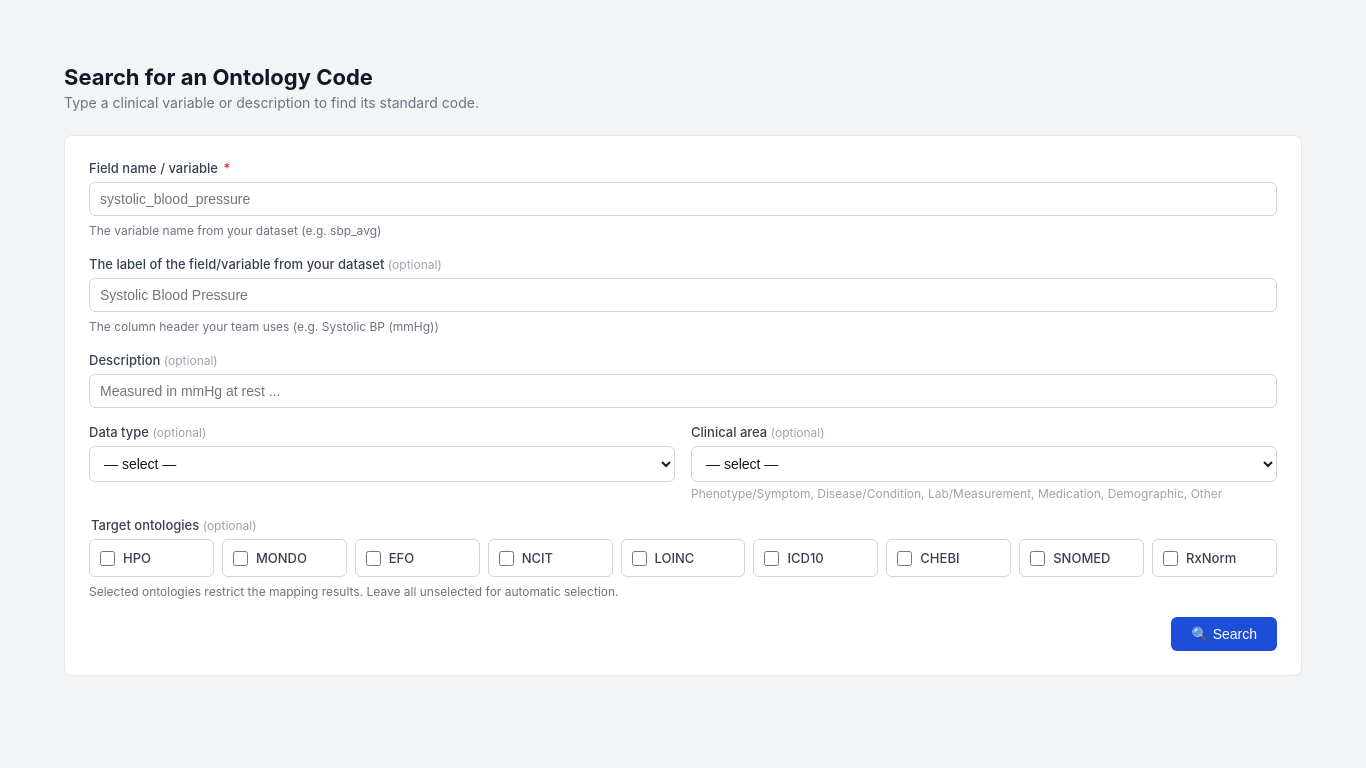
SearchPage retrieval method display › renders imported EFO mappings with the returned native ontology unchanged
Click the checkbox labelled "EFO". click: (373, 558)
box: 366,550 -> 381,566
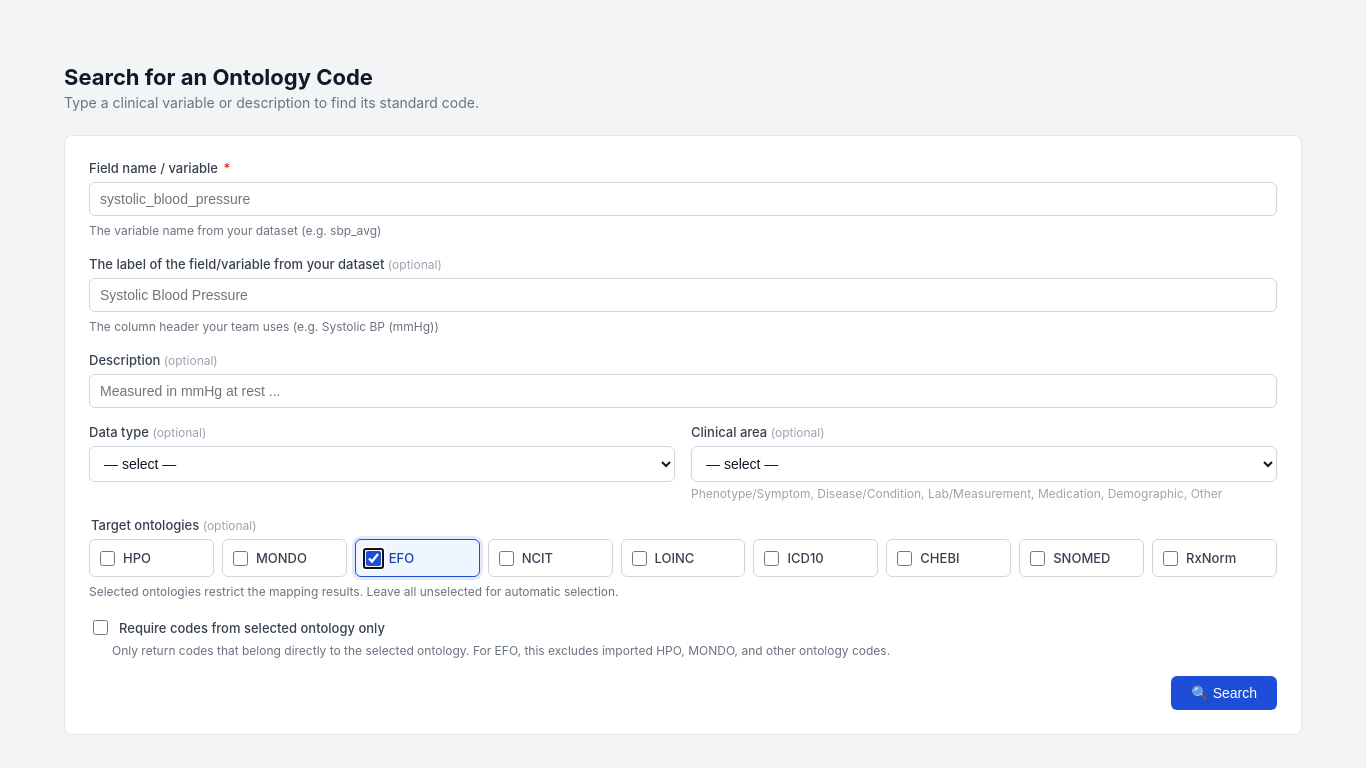
Type "sbp" into the field labelled "Field name / variable *". click: (683, 199)
box: 89,182 -> 1277,216
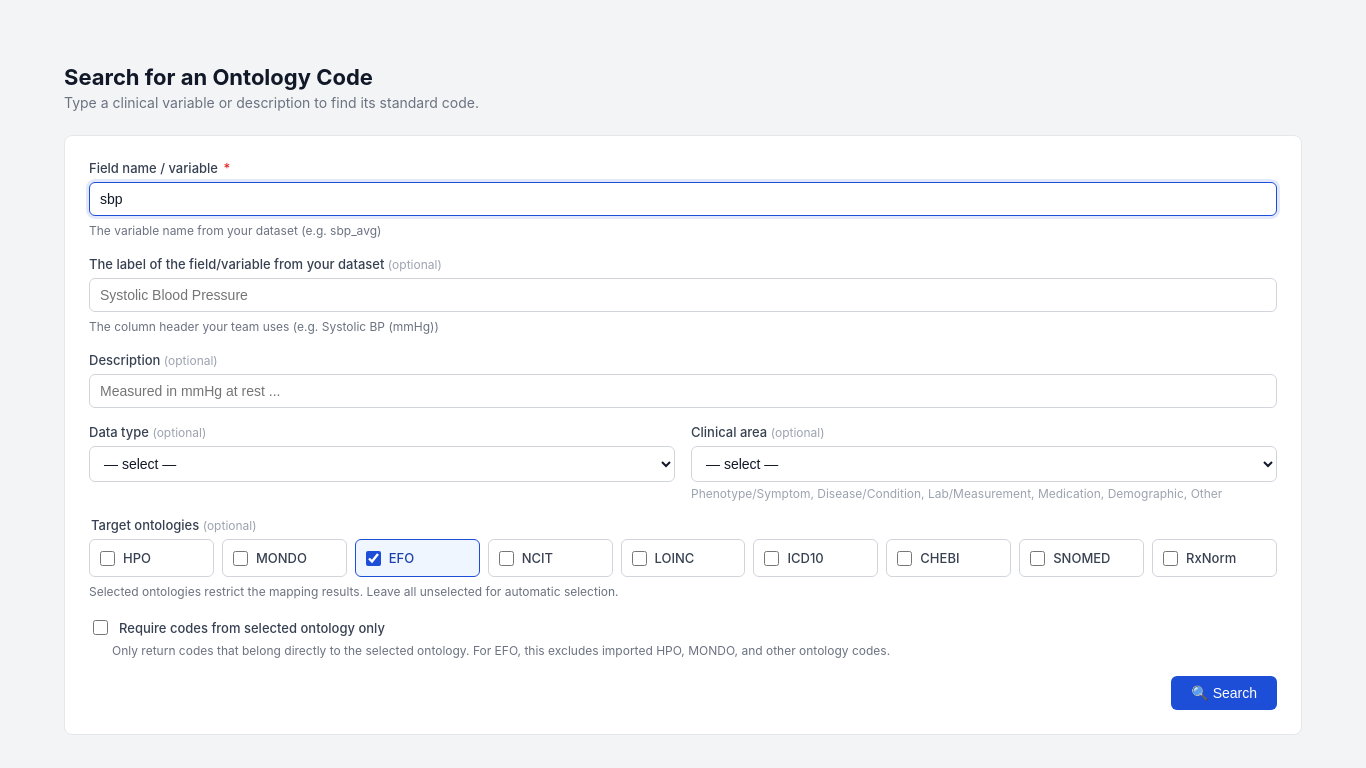
Click the button "🔍 Search". click: (1224, 693)
box: 1171,676 -> 1277,710
(page scrolled)
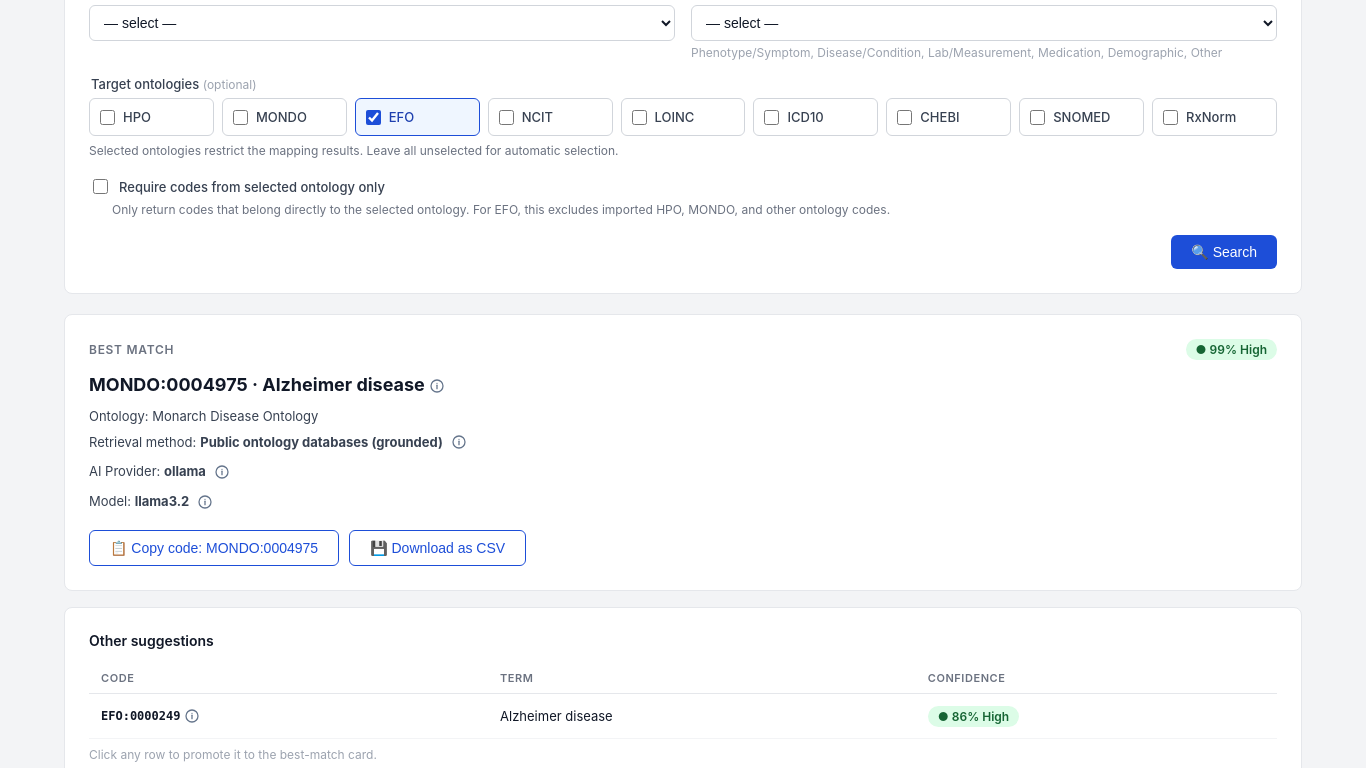
Check: the element with class "result-code-term" reads "MONDO:0004975 · Alzheimer disease", box 89,374 -> 449,398
Check: the text "Ontology: Monarch Disease Ontology" is shown, box 89,408 -> 318,424
Check: the text "EFO:0000249" is shown, box 101,709 -> 180,723
